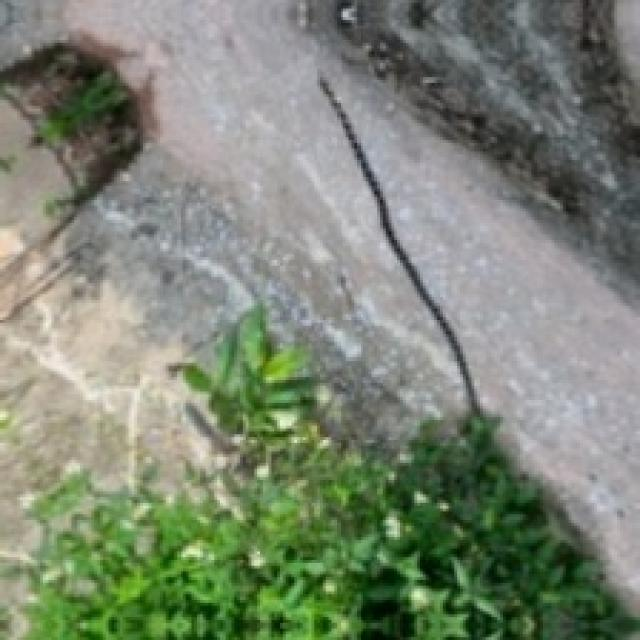king cobra: (317, 74, 480, 414)
